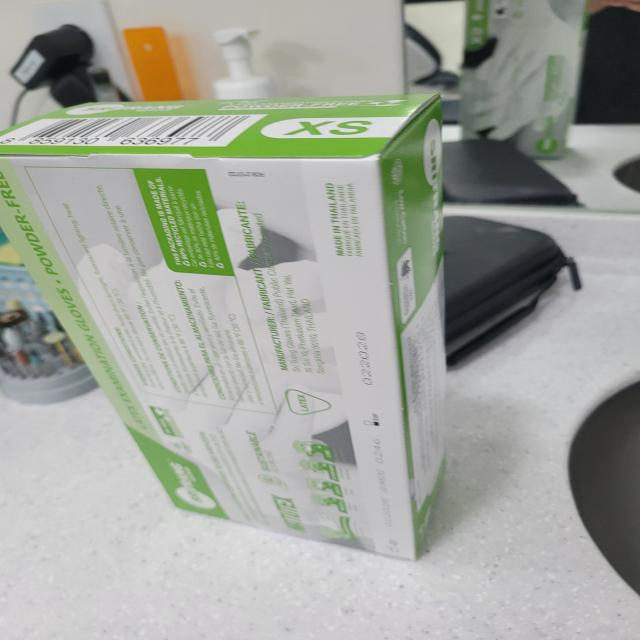glove: (0, 91, 487, 569)
